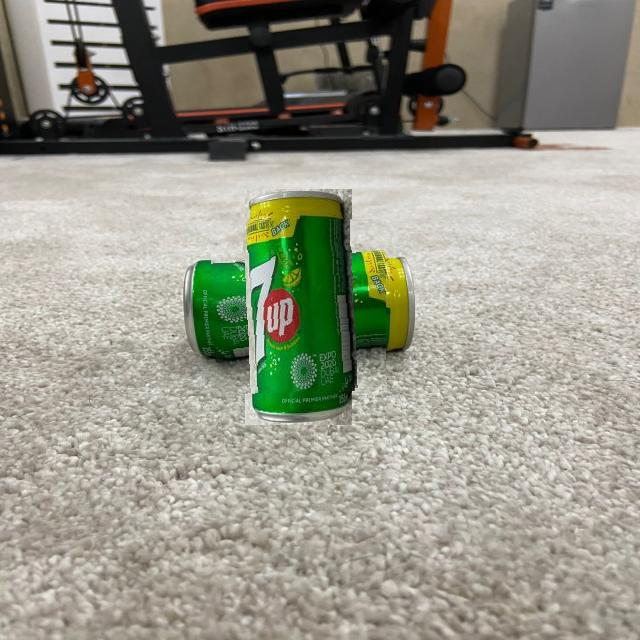recyclable: (211, 219, 386, 394)
